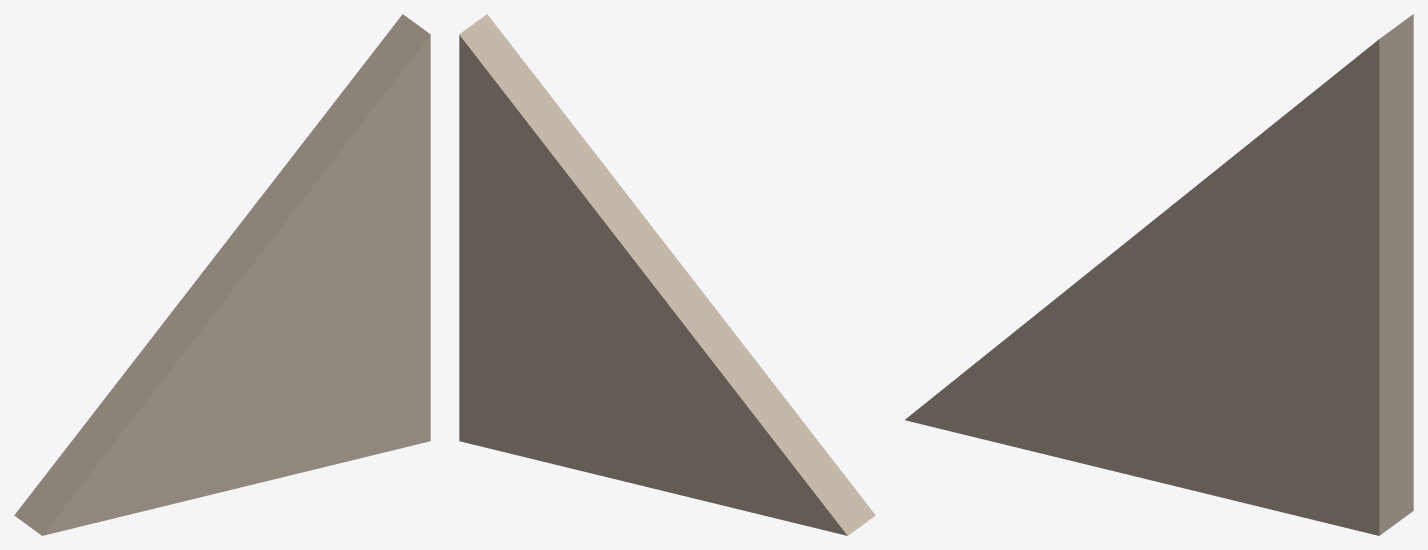
File: Gable_Corner_1.fbx
3 views of the same model, side by side, from view 1: azimuth 30°, elevation 25°; view 2: azimuth 150°, elevation 25°; view 3: azimuth 330°, elevation 25° (orthographic). The views are drawn at different scales.
Visible parts, largest first — view 1: Gable_Corner_1_LOD0; view 2: Gable_Corner_1_LOD0; view 3: Gable_Corner_1_LOD0.
Part boxes in pixels (<box>): Gable_Corner_1_LOD0: <box>14,14,430,535</box>; Gable_Corner_1_LOD0: <box>459,14,875,535</box>; Gable_Corner_1_LOD0: <box>905,14,1413,535</box>.
Bounding box in the file's own units: 200 × 200 × 25.
